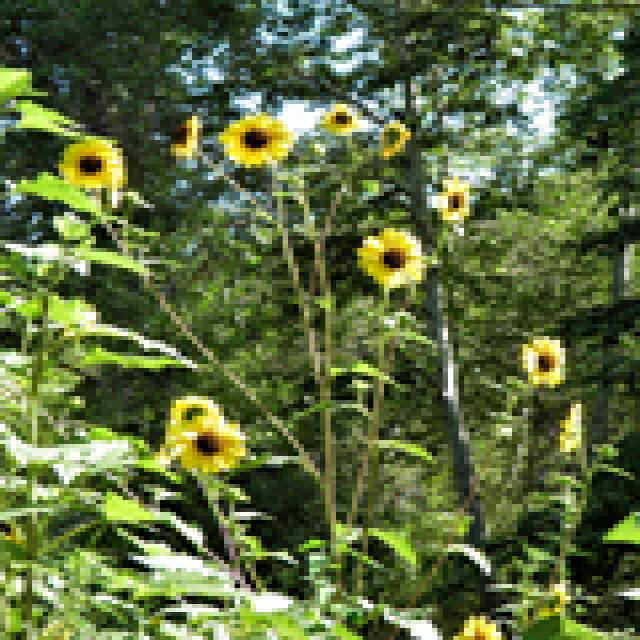sunflower: (351, 215, 443, 301), (214, 99, 300, 183), (160, 414, 261, 474), (54, 135, 138, 196), (152, 108, 219, 170), (429, 164, 480, 236), (429, 600, 516, 640), (516, 327, 572, 388), (553, 396, 590, 463), (163, 394, 227, 429), (370, 118, 412, 164), (317, 93, 357, 139)
